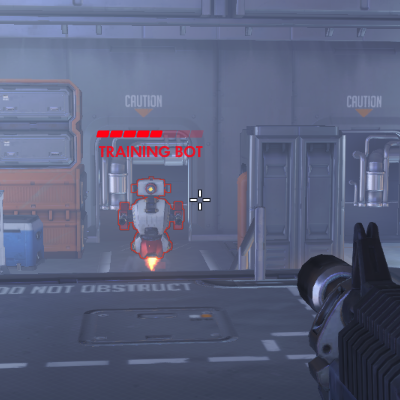hpbar: (96, 130, 204, 138)
